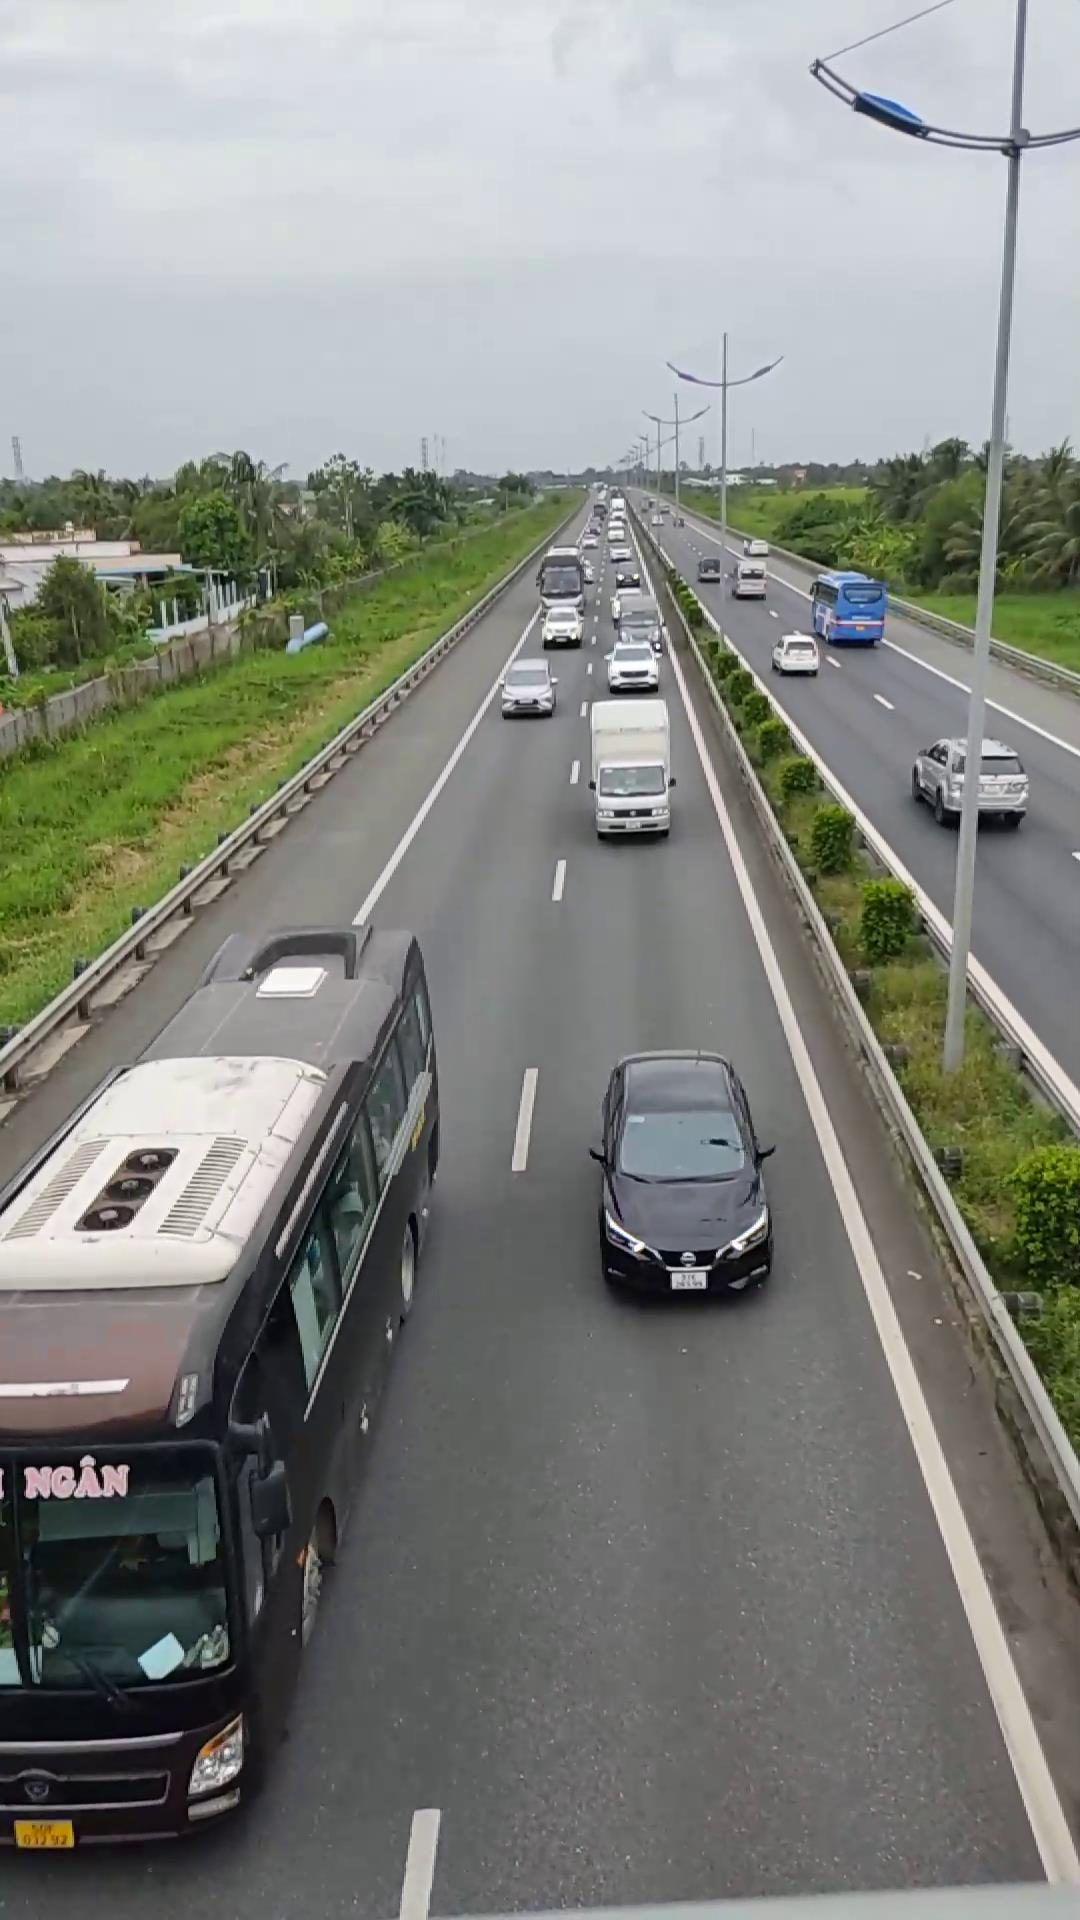bus: (0, 919, 441, 1849)
car: (587, 1048, 776, 1299)
truck: (578, 696, 678, 839)
